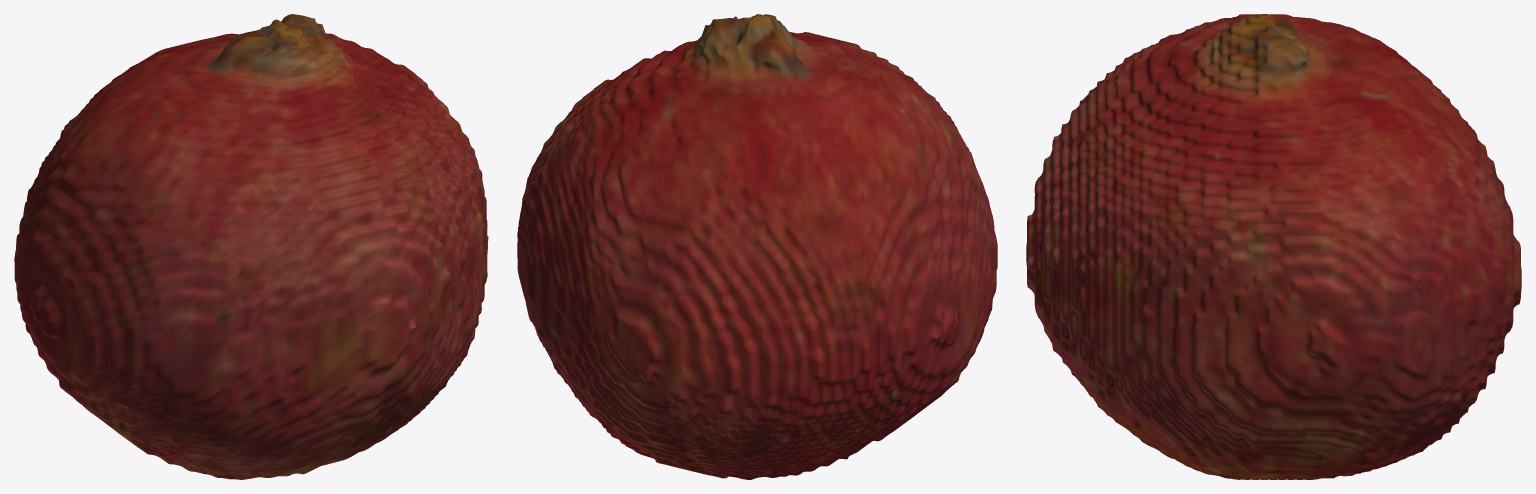
The model's file is pomegranate.glb.
3 renders of one model, left to right at view 1: azimuth 30°, elevation 25°; view 2: azimuth 150°, elevation 25°; view 3: azimuth 270°, elevation 25°, orthographic. The views are drawn at different scales.
Visible parts, largest first — view 1: pomegranate; view 2: pomegranate; view 3: pomegranate.
Part boxes in pixels (x1,y1,x2,y2): pomegranate: (14, 14, 488, 479); pomegranate: (517, 14, 997, 479); pomegranate: (1026, 14, 1521, 479).
Bounding box in the file's own units: 0.0997 × 0.0996 × 0.1.
